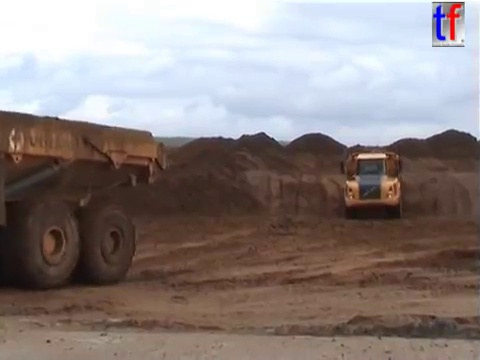truck: (1, 108, 169, 292), (339, 143, 406, 220)
